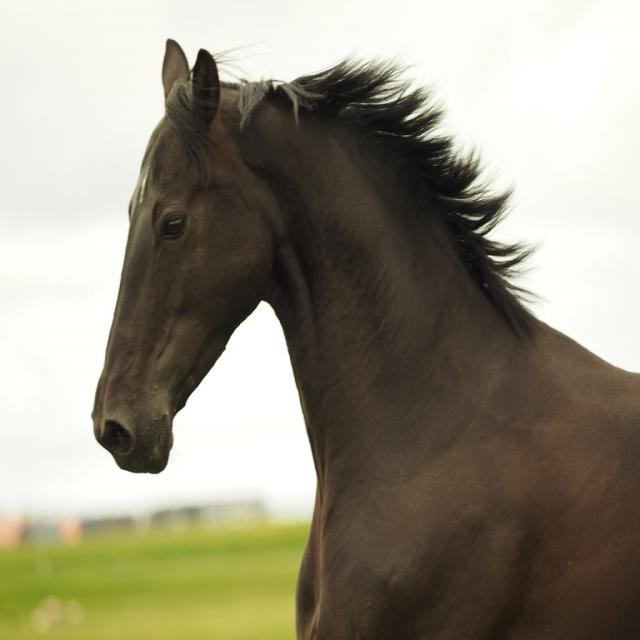Horse: (91, 39, 640, 639)
